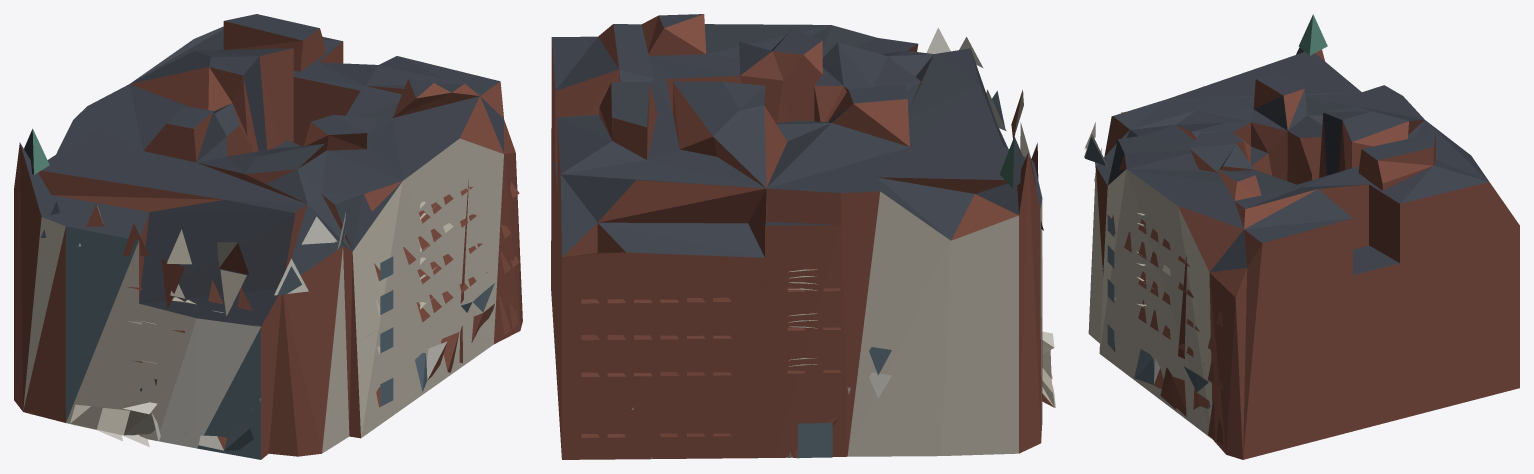
File: hotel-de-l-europe.lod2.glb
The picture shows the model from 3 angles, left to right: view 1: azimuth 30°, elevation 25°; view 2: azimuth 150°, elevation 25°; view 3: azimuth 270°, elevation 25°; orthographic projection. The views are drawn at different scales.
Parts seen in each view (by area): view 1: lod2; view 2: lod2; view 3: lod2.
Boxes of the visible parts, <box> form: lod2: <box>14,14,522,459</box>; lod2: <box>551,14,1055,459</box>; lod2: <box>1084,14,1519,459</box>.
Size of the model in its own units: 52.45 by 29.51 by 46.94.
